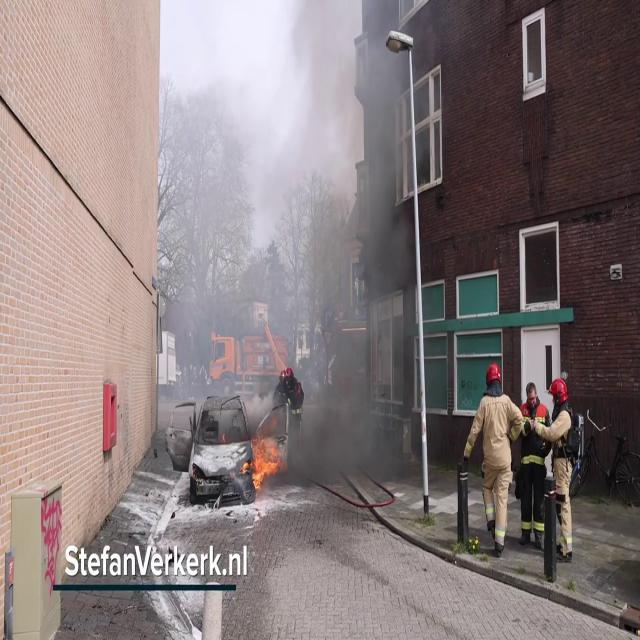Fire: (246, 426, 284, 491)
Smoke: (165, 2, 412, 454)
